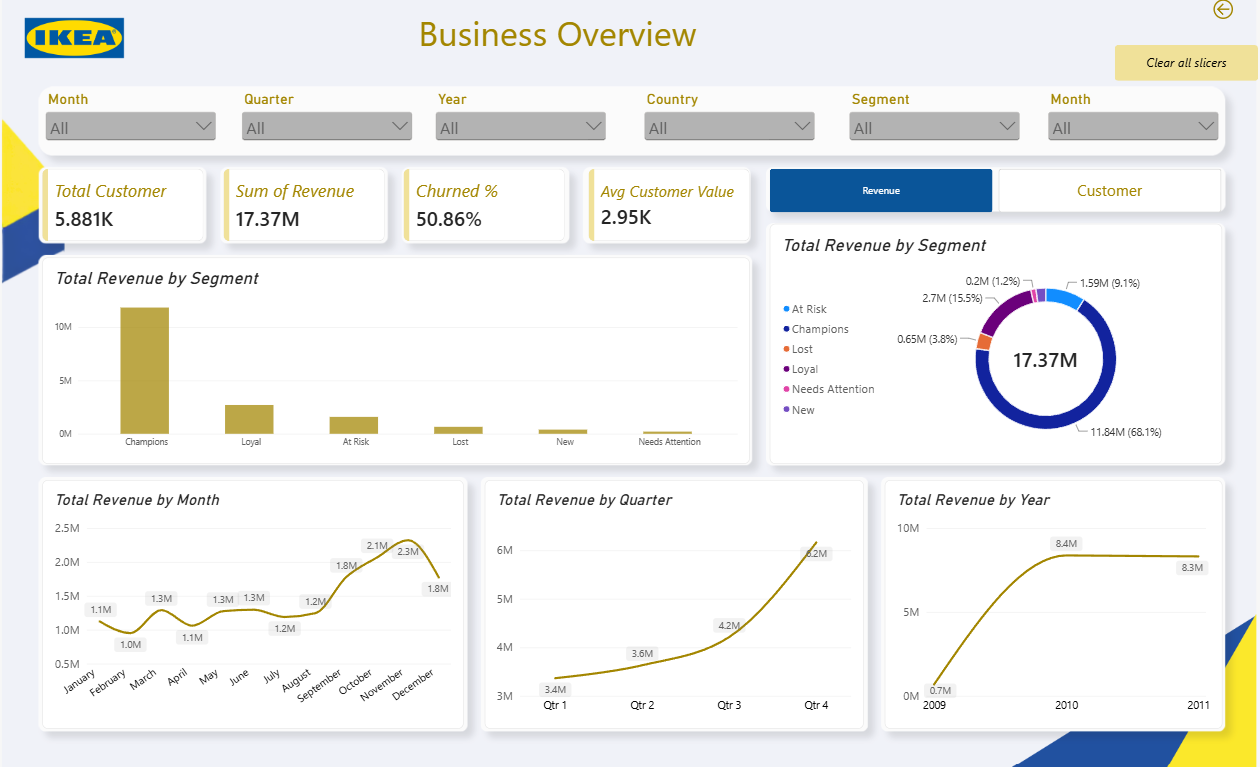

Layout of this report page (visuals, bound fields, positions):
{"tool":"powerbi","page":{"name":"Overview","canvas":[1920,1080],"ordinal":1},"visuals":[{"type":"slicer","fields":{"Values":["Sheet1.InvoiceDate.Variation.Date Hierarchy.Month"]},"box":[141.3,132.6,247.7,87.2],"z":0},{"type":"areaChart","fields":{"Category":["Sheet1.InvoiceDate.Variation.Date Hierarchy.Month"],"Y":["Sheet1.Total Revenue"]},"box":[141.3,676.8,587.8,347.1],"z":0,"group":"g1"},{"type":"cardVisual","fields":{"Data":["Sheet1.Total Customer"]},"box":[141.7,241.7,225,101.2],"z":1000},{"type":"areaChart","fields":{"Category":["Sheet1.InvoiceDate.Variation.Date Hierarchy.Quarter"],"Y":["Sheet1.Total Revenue"]},"box":[758.7,676.8,528.5,347.1],"z":1000,"group":"g1"},{"type":"cardVisual","fields":{"Data":["Sum(Sheet1.Revenue)"]},"box":[395,242.4,225,101.2],"z":2000},{"type":"areaChart","fields":{"Category":["Sheet1.InvoiceDate.Variation.Date Hierarchy.Year"],"Y":["Sheet1.Total Revenue"]},"box":[1316.9,676.8,470.9,347.1],"z":2000,"group":"g1"},{"type":"cardVisual","fields":{"Data":["Sheet1.Churned %"]},"box":[645.4,242.4,225,101.2],"z":3000},{"type":"clusteredColumnChart","fields":{"Category":["Sheet1.Segment"],"Y":["Sheet1.Total Revenue"]},"box":[141.3,366.3,987.2,287.8],"z":3000,"group":"g1"},{"type":"cardVisual","fields":{"Data":["Sheet1.Avg Customer Value"]},"box":[903.5,242.4,225,101.2],"z":4000},{"type":"donutChart","fields":{"Series":["Sheet1.Segment"],"Y":["Sheet1.Total Revenue"]},"box":[1156.4,319.2,631.4,334.9],"z":4000,"group":"g1"},{"type":"slicer","fields":{"Values":["Sheet1.InvoiceDate.Variation.Date Hierarchy.Quarter"]},"box":[415.1,132.6,247.7,87.2],"z":5000},{"type":"slicer","fields":{"Values":["Sheet1.InvoiceDate.Variation.Date Hierarchy.Year"]},"box":[685.5,132.6,247.7,87.2],"z":6000},{"type":"slicer","fields":{"Values":["Sheet1.Country"]},"box":[976.7,132.6,247.7,87.2],"z":7000},{"type":"slicer","fields":{"Values":["Sheet1.Segment"]},"box":[1262.8,132.6,247.7,87.2],"z":8000},{"type":"slicer","fields":{"Values":["Sheet1.InvoiceDate.Variation.Date Hierarchy.Month"]},"box":[1540.1,132.6,247.7,87.2],"z":9000},{"type":"group","id":"g1","title":"Revenue","box":[141.3,319.2,1646.5,704.7],"z":11000},{"type":"bookmarkNavigator","box":[1156.7,241.7,631.7,61.7],"z":12000},{"type":"image","box":[86.7,0,198.3,120],"z":13000},{"type":"textbox","box":[666.7,20,433.3,75],"z":14000},{"type":"actionButton","box":[1738.3,0,100,40],"z":15000},{"type":"actionButton","box":[1638.3,70,200,50],"z":16000}]}

Visuals, with their boxes on the page's 1920x1080 design canvas (x1, y1, x2, y2). These are canvas units, not pixel positions in the 1260x767 screenshot, which may show the page scaled, cropped or inside an application window:
slicer - Sheet1.InvoiceDate.Variation.Date Hierarchy.Month: locate(141, 133, 389, 220)
areaChart - Sheet1.InvoiceDate.Variation.Date Hierarchy.Month x Sheet1.Total Revenue: locate(141, 677, 729, 1024)
cardVisual - Sheet1.Total Customer: locate(142, 242, 367, 343)
areaChart - Sheet1.InvoiceDate.Variation.Date Hierarchy.Quarter x Sheet1.Total Revenue: locate(759, 677, 1287, 1024)
cardVisual - Sum(Sheet1.Revenue): locate(395, 242, 620, 344)
areaChart - Sheet1.InvoiceDate.Variation.Date Hierarchy.Year x Sheet1.Total Revenue: locate(1317, 677, 1788, 1024)
cardVisual - Sheet1.Churned %: locate(645, 242, 870, 344)
clusteredColumnChart - Sheet1.Segment x Sheet1.Total Revenue: locate(141, 366, 1128, 654)
cardVisual - Sheet1.Avg Customer Value: locate(904, 242, 1128, 344)
donutChart - Sheet1.Segment x Sheet1.Total Revenue: locate(1156, 319, 1788, 654)
slicer - Sheet1.InvoiceDate.Variation.Date Hierarchy.Quarter: locate(415, 133, 663, 220)
slicer - Sheet1.InvoiceDate.Variation.Date Hierarchy.Year: locate(686, 133, 933, 220)
slicer - Sheet1.Country: locate(977, 133, 1224, 220)
slicer - Sheet1.Segment: locate(1263, 133, 1510, 220)
slicer - Sheet1.InvoiceDate.Variation.Date Hierarchy.Month: locate(1540, 133, 1788, 220)
"Revenue" group: locate(141, 319, 1788, 1024)
bookmarkNavigator: locate(1157, 242, 1788, 303)
image: locate(87, 0, 285, 120)
textbox: locate(667, 20, 1100, 95)
actionButton: locate(1738, 0, 1838, 40)
actionButton: locate(1638, 70, 1838, 120)
